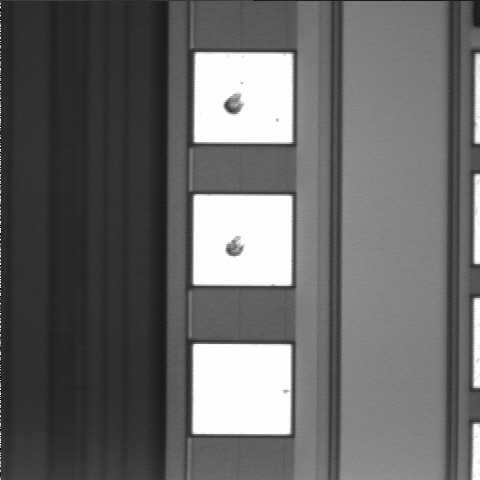pad: (193, 195, 292, 286), (194, 52, 292, 143), (193, 344, 291, 434)
